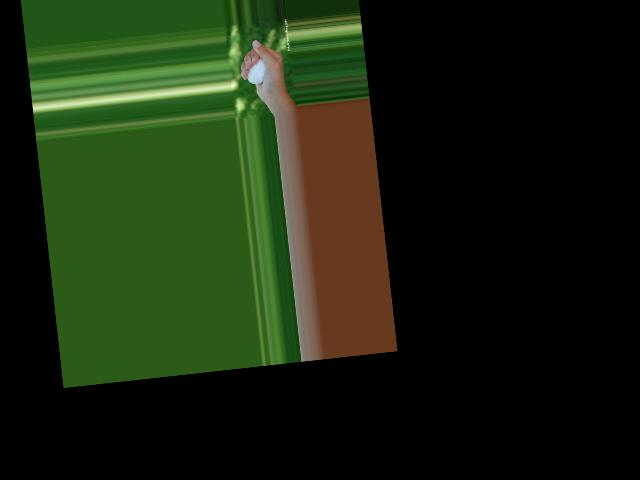egg: (245, 56, 267, 84)
